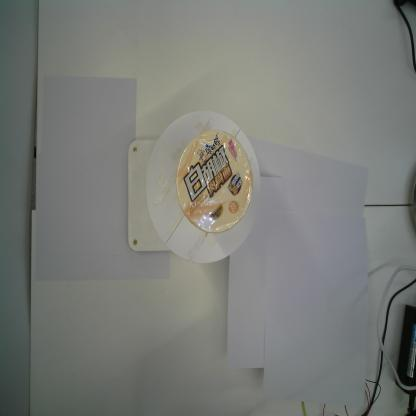Instant Noodles: (174, 126, 254, 238)
